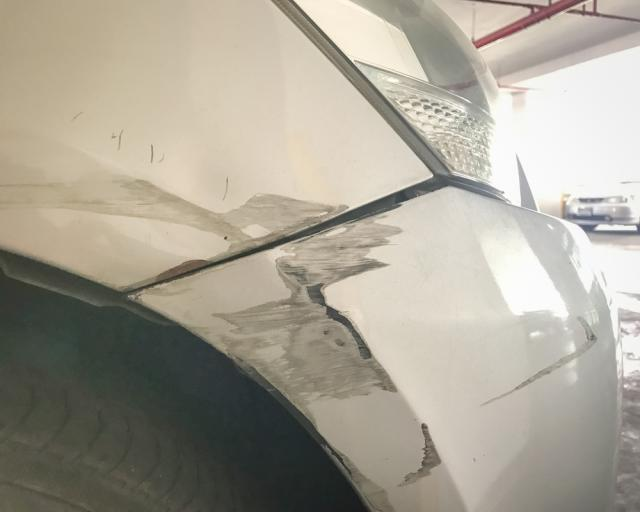scratch: (213, 202, 444, 512), (0, 174, 355, 269), (472, 315, 602, 409)
